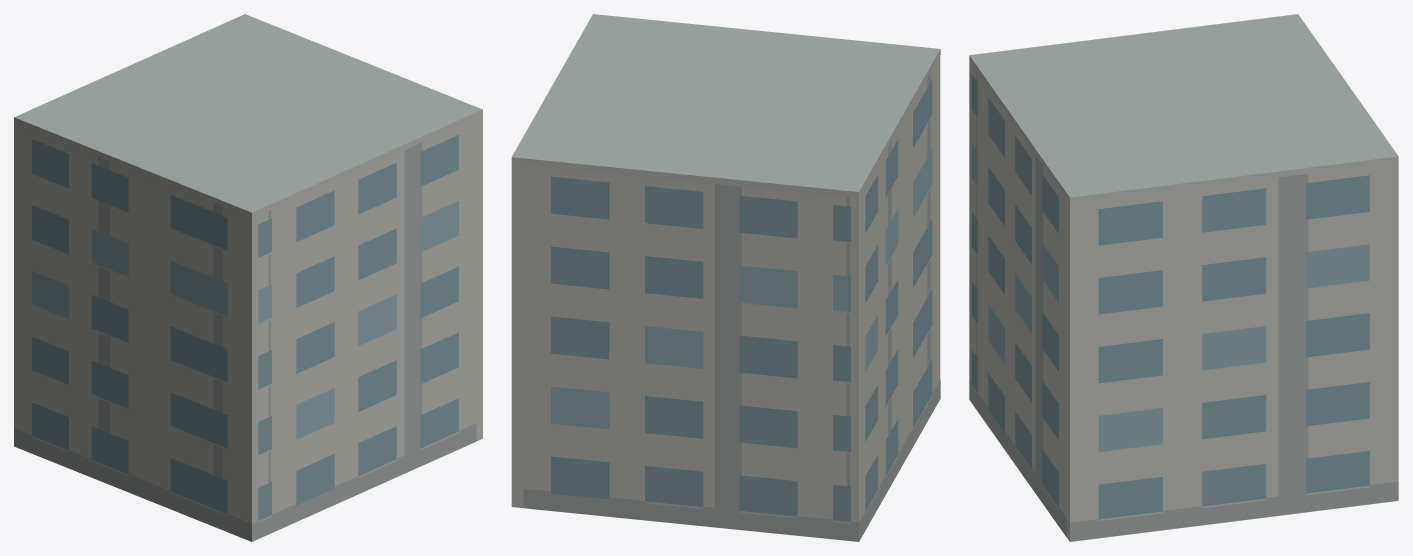
Rendered from survey-upis-33046767.glb.
3 renders of one model, left to right at view 1: azimuth 30°, elevation 25°; view 2: azimuth 150°, elevation 25°; view 3: azimuth 270°, elevation 25°, orthographic. The views are drawn at different scales.
Parts seen in each view (by area): view 1: survey-upis-33046767.tmp; view 2: survey-upis-33046767.tmp; view 3: survey-upis-33046767.tmp.
Part boxes in pixels (x1,y1,x2,y2): survey-upis-33046767.tmp: (14,14,482,541); survey-upis-33046767.tmp: (511,14,940,541); survey-upis-33046767.tmp: (969,14,1398,541).
Size of the model in its own units: 16.12 by 14.1 by 15.94.
